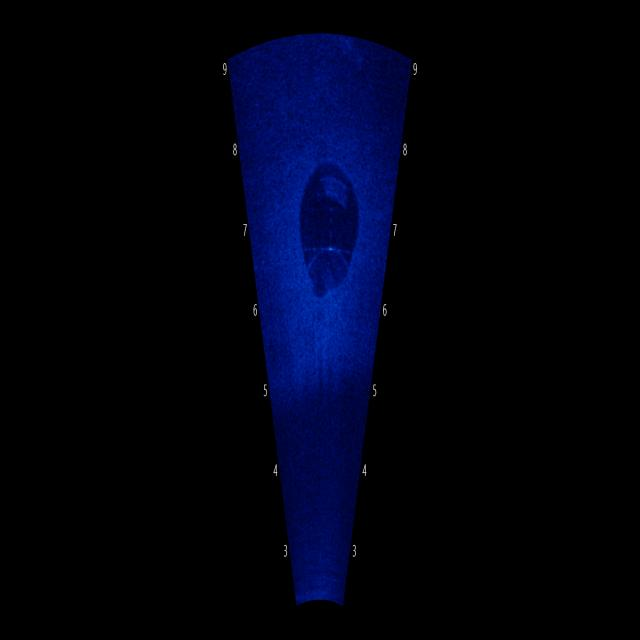circle: (288, 142, 361, 316)
